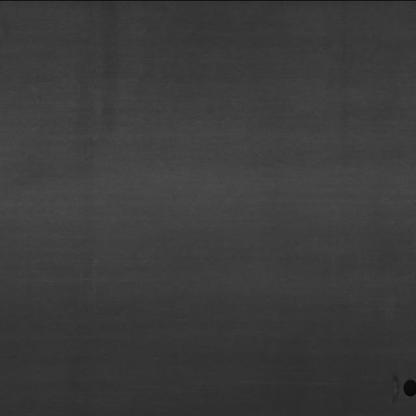punching_hole: (392, 375, 416, 401)
